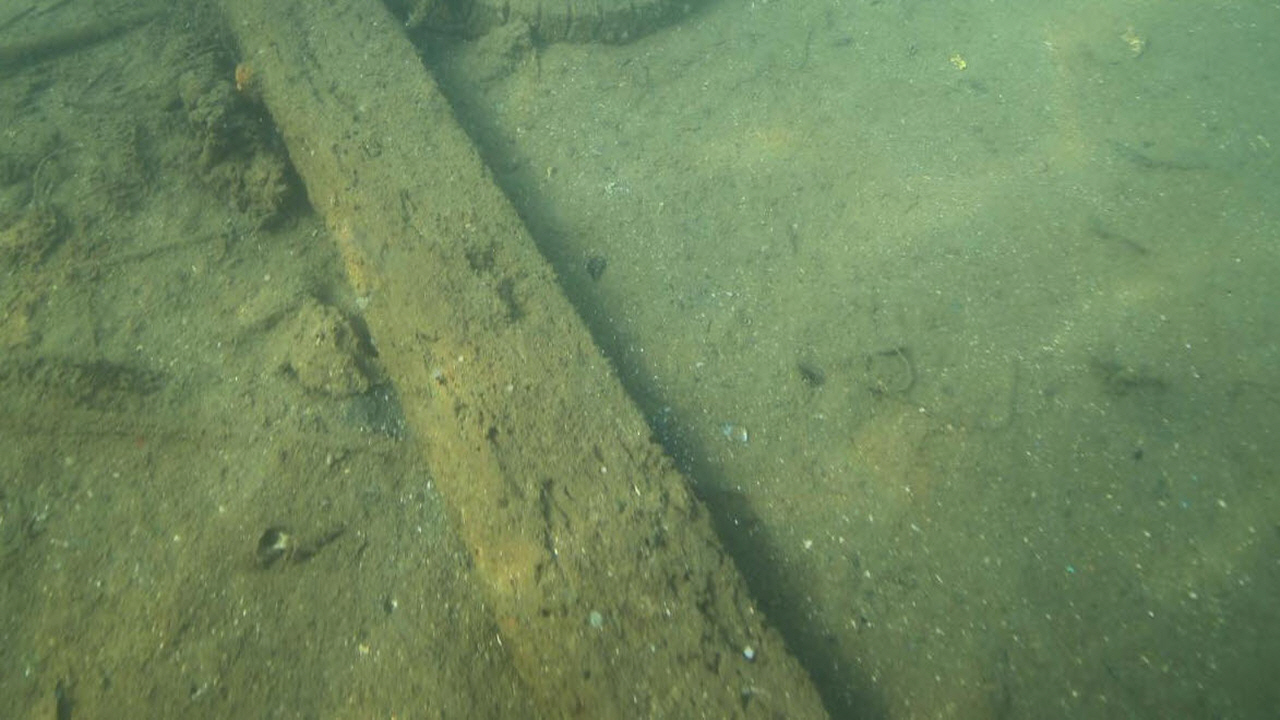wood: (216, 0, 836, 720)
